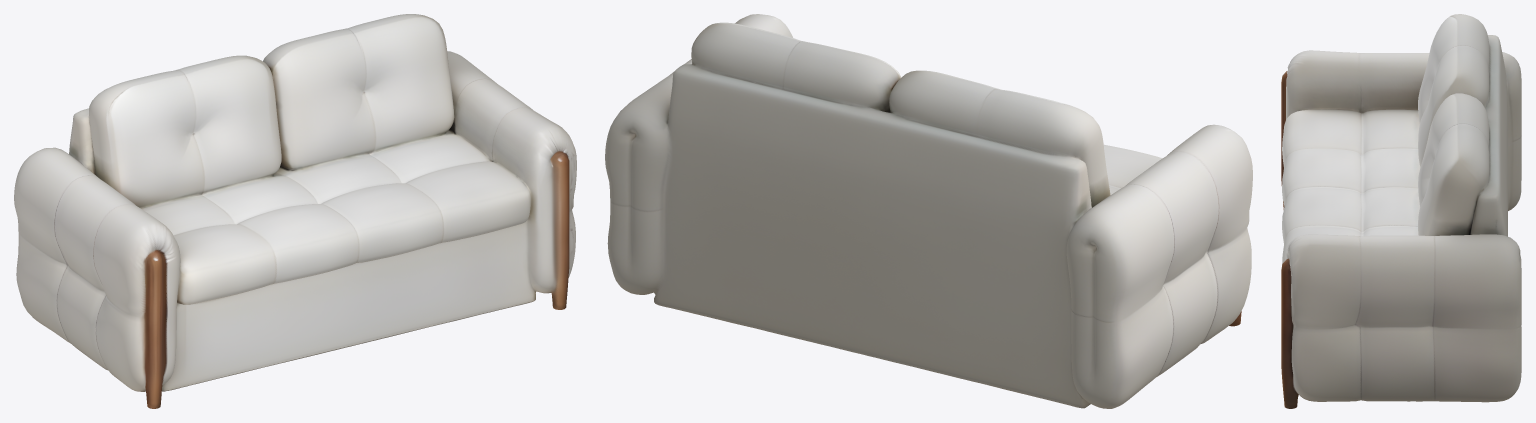
The model's file is base_basic_shaded.glb.
The picture shows the model from 3 angles, left to right: view 1: azimuth 30°, elevation 25°; view 2: azimuth 150°, elevation 25°; view 3: azimuth 270°, elevation 25°; orthographic projection. The views are drawn at different scales.
Parts seen in each view (by area): view 1: model; view 2: model; view 3: model.
Part boxes in pixels (<box>): model: <box>14,14,576,408</box>; model: <box>605,14,1252,408</box>; model: <box>1281,14,1521,408</box>.
Bounding box in the file's own units: 1.83 × 0.9246 × 0.8816.
1 material, 1 textured.
